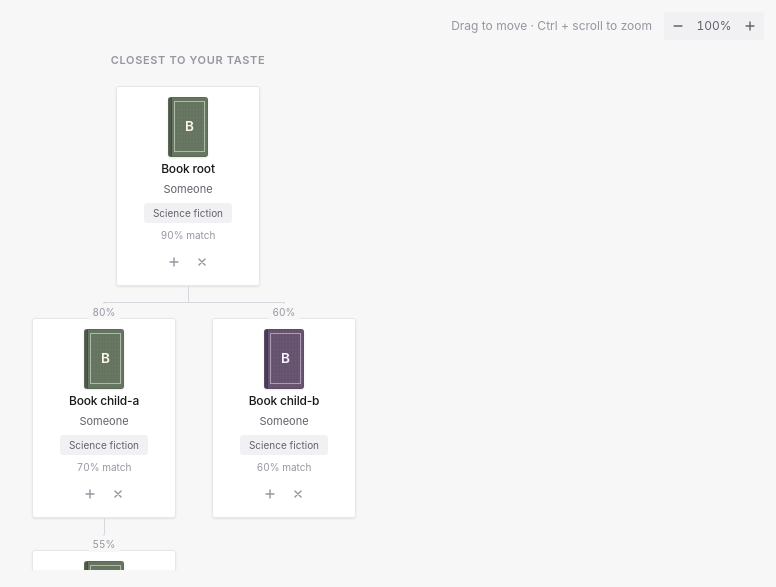
Test: Zooming the tree › scales the whole tree at once, so the connectors keep up
Click the button named "Zoom in".
click(750, 26)  # box top-left (738, 14), bottom-right (762, 38)
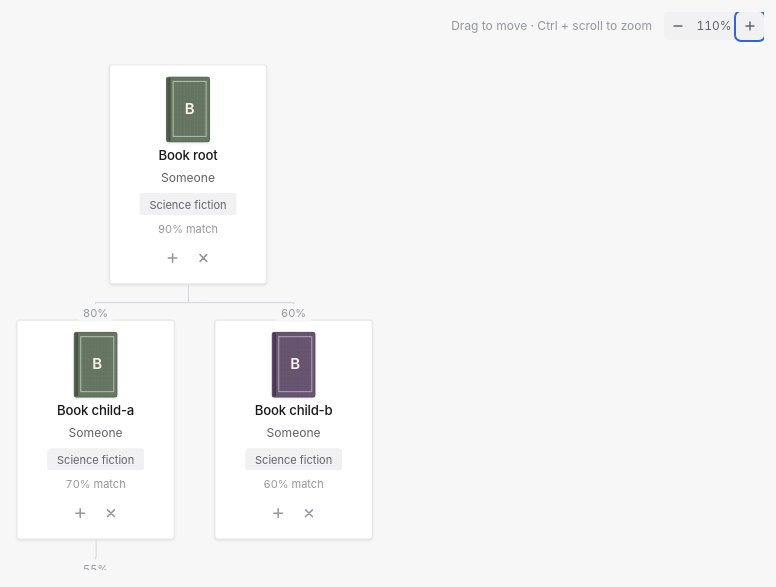
Result: the button named "Reset zoom" reads "110%" at top-left (690, 16), bottom-right (738, 36)
